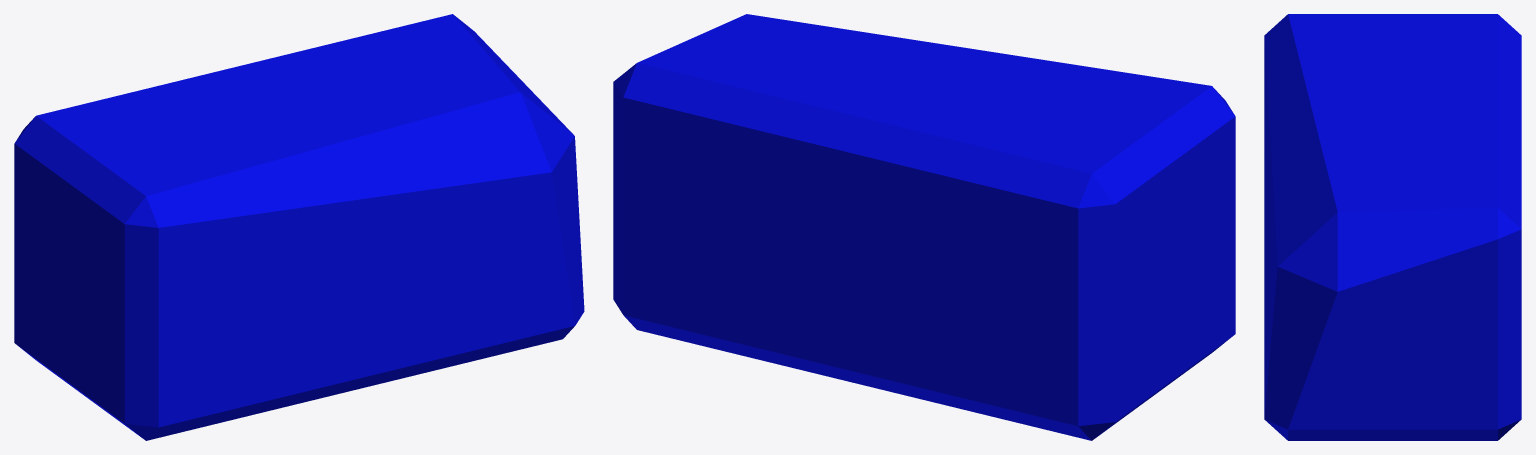
The model's file is SM_Small_QuarryStone1.fbx.
3 views of the same model, side by side, from view 1: azimuth 30°, elevation 25°; view 2: azimuth 150°, elevation 25°; view 3: azimuth 270°, elevation 25° (orthographic). The views are drawn at different scales.
Visible parts, largest first — view 1: SM_Small_QuarryStone1; view 2: SM_Small_QuarryStone1; view 3: SM_Small_QuarryStone1.
Part boxes in pixels (left/top/right/bottom): SM_Small_QuarryStone1: left=14, top=14, right=584, bottom=440; SM_Small_QuarryStone1: left=613, top=14, right=1235, bottom=440; SM_Small_QuarryStone1: left=1264, top=14, right=1521, bottom=440.
Bounding box in the file's own units: 70.32 × 34.52 × 34.52.
